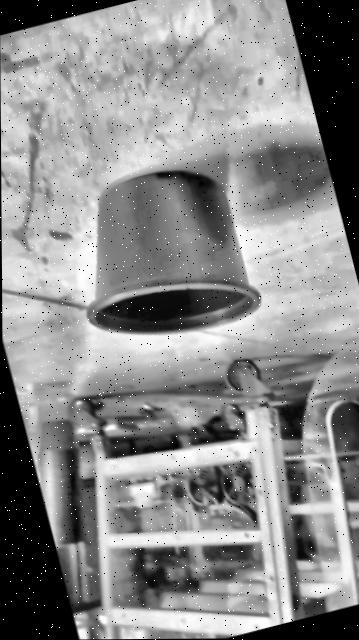pot: (58, 154, 263, 356)
